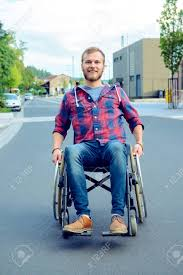wheelchair: (51, 46, 149, 237)
